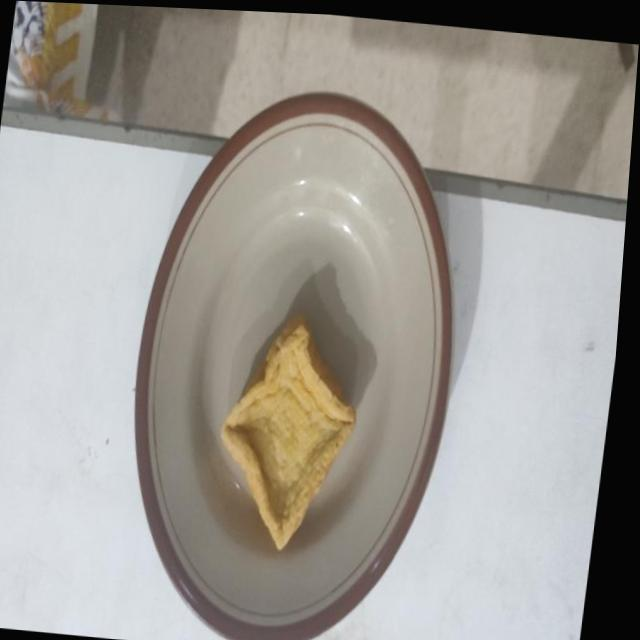tahu_goreng: (222, 315, 356, 550)
